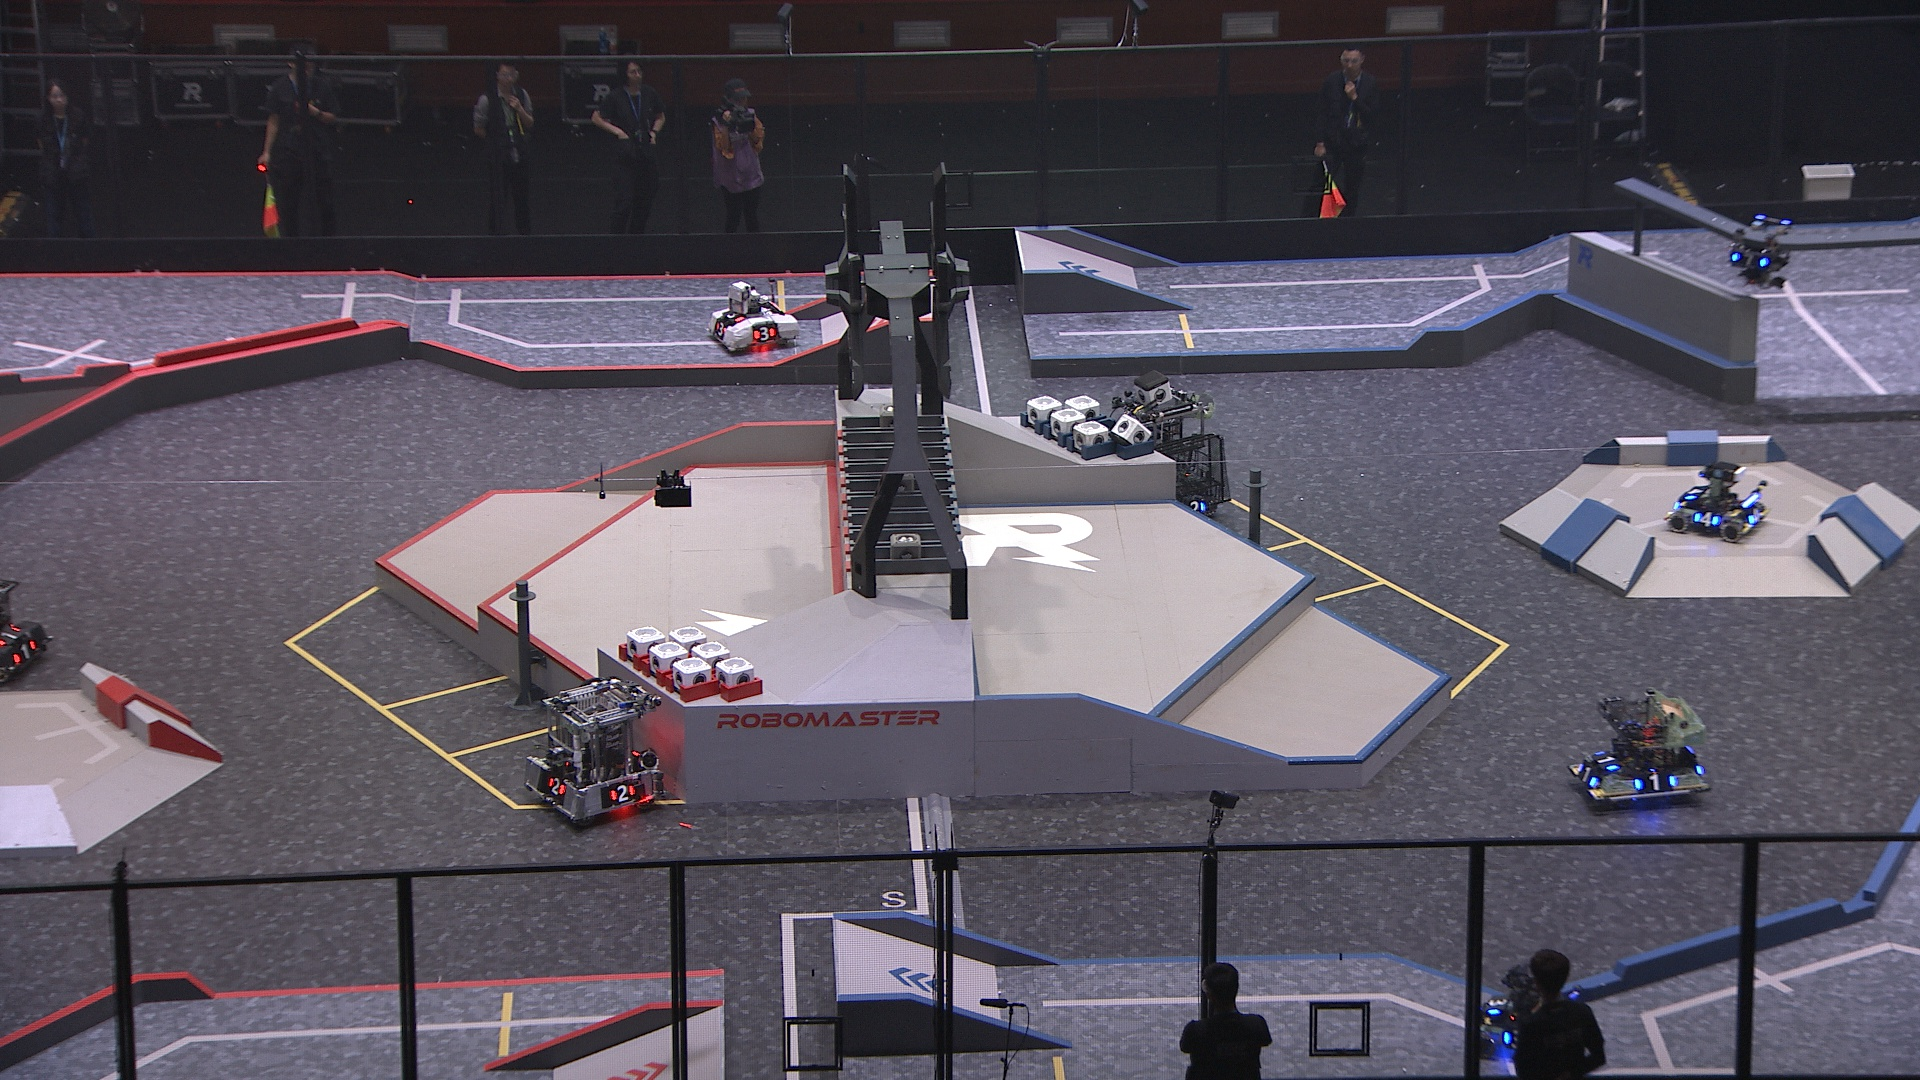armor: (1634, 771, 1677, 793), (1730, 252, 1770, 272), (11, 640, 40, 665), (543, 773, 567, 800), (608, 785, 636, 806), (1593, 752, 1619, 773), (1485, 996, 1506, 1019), (749, 324, 778, 342), (1695, 510, 1724, 527), (1576, 764, 1596, 789), (1501, 1029, 1522, 1050), (1185, 496, 1207, 514), (1680, 485, 1702, 502), (1747, 506, 1764, 527), (723, 310, 742, 323), (713, 320, 727, 338)
car: (524, 675, 669, 829), (1567, 684, 1716, 808), (1112, 386, 1232, 524), (1461, 965, 1581, 1063), (1665, 458, 1768, 542), (708, 281, 799, 353)
watcher: (1727, 214, 1793, 291)
